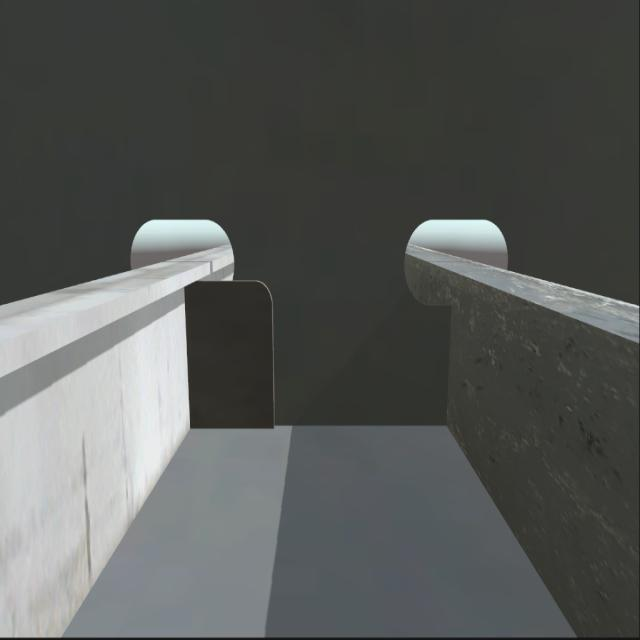fillet_yong_jeop_jang: (190, 417, 447, 433)
longi_yong_jeop_jang: (442, 303, 453, 429), (184, 281, 192, 435)
plate_CP05: (186, 275, 274, 430)
